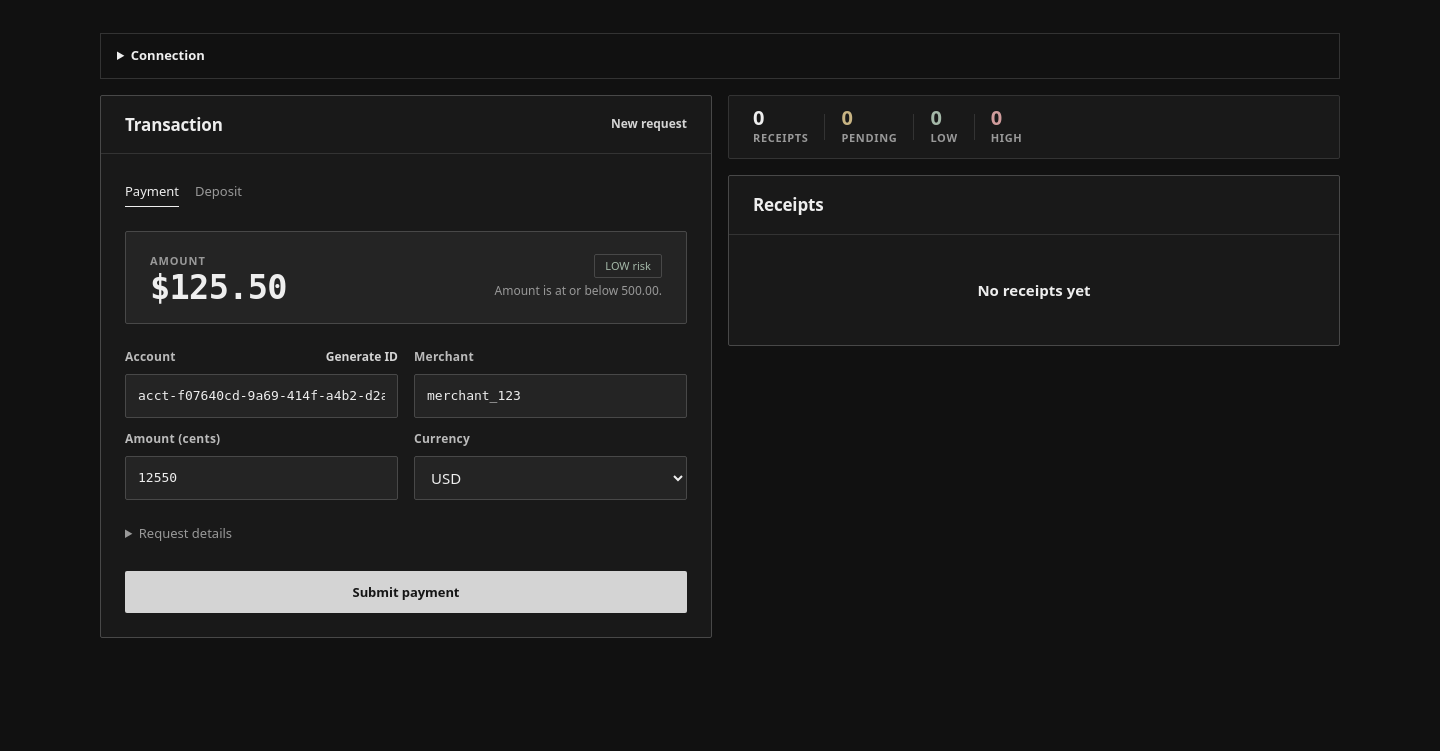
Test: funding supports arbitrary amounts with only its scoped bearer and no risk score
The width and height of the screenshot is (1440, 751).
Click the heading "Connection" at (168, 55), box [131, 46, 205, 64]
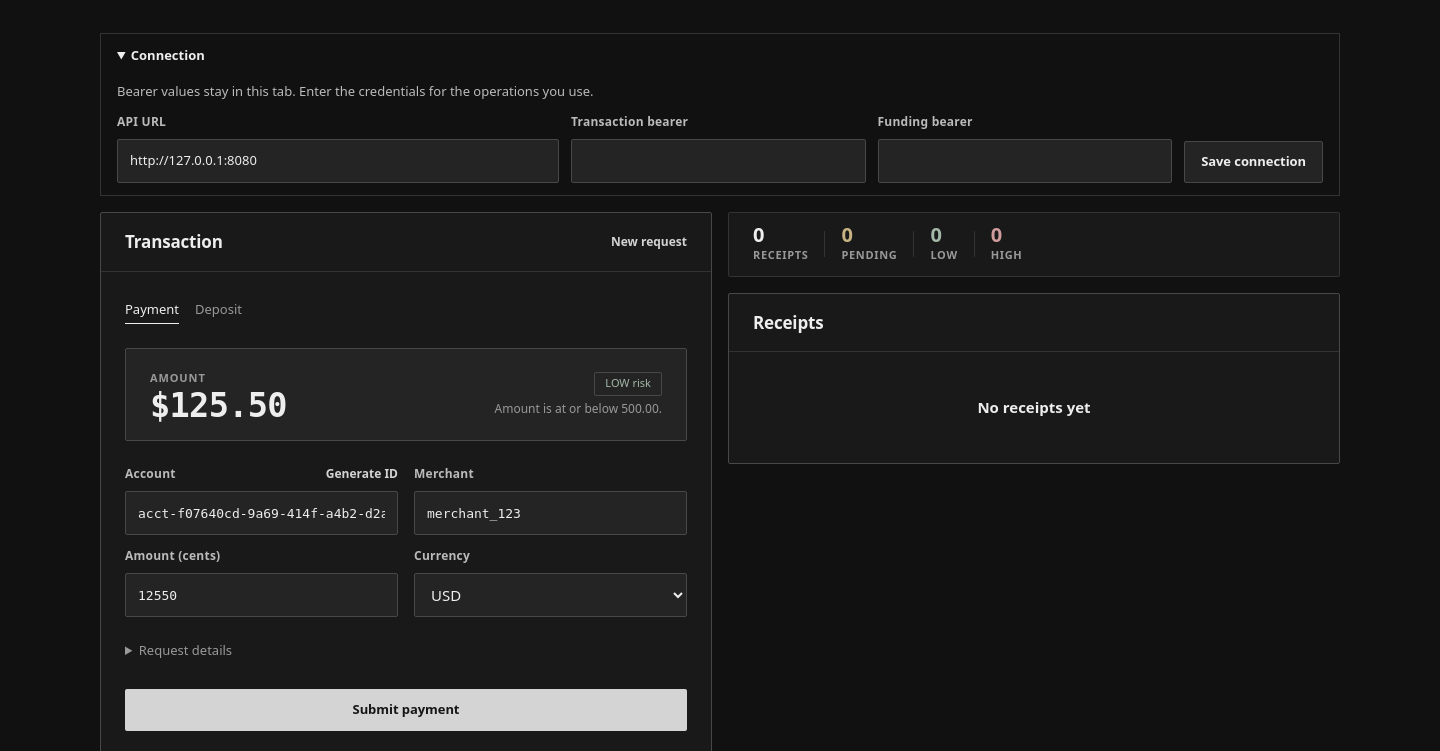
Replace the text in the field labelled "API URL" with "http://localhost:9000" at (338, 161), box [117, 139, 559, 183]
Type "funding-test" into the password field labelled "Funding bearer" at (1025, 161), box [878, 139, 1172, 183]
Click the button "Save connection" at (1254, 162), box [1184, 141, 1323, 183]
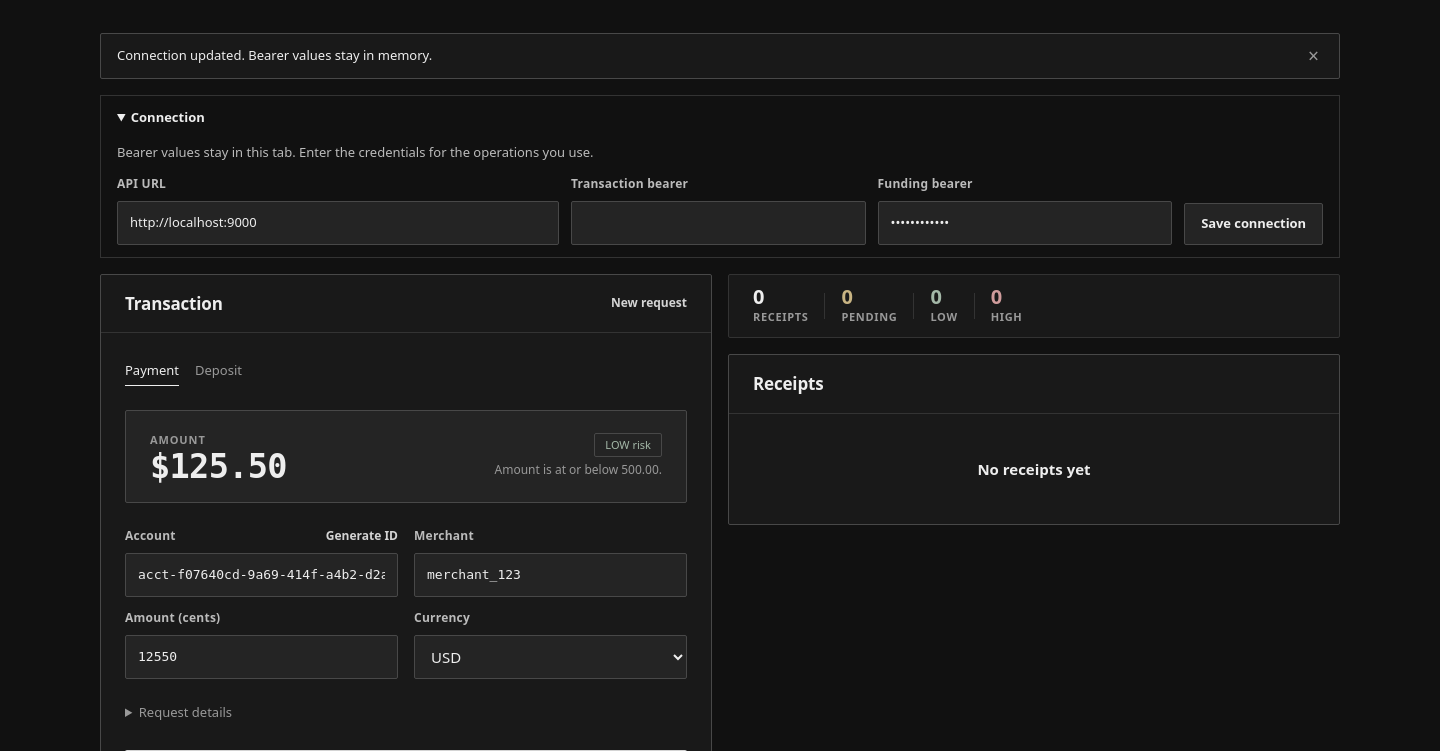
Click the button "Deposit" at (218, 371), box [195, 357, 242, 386]
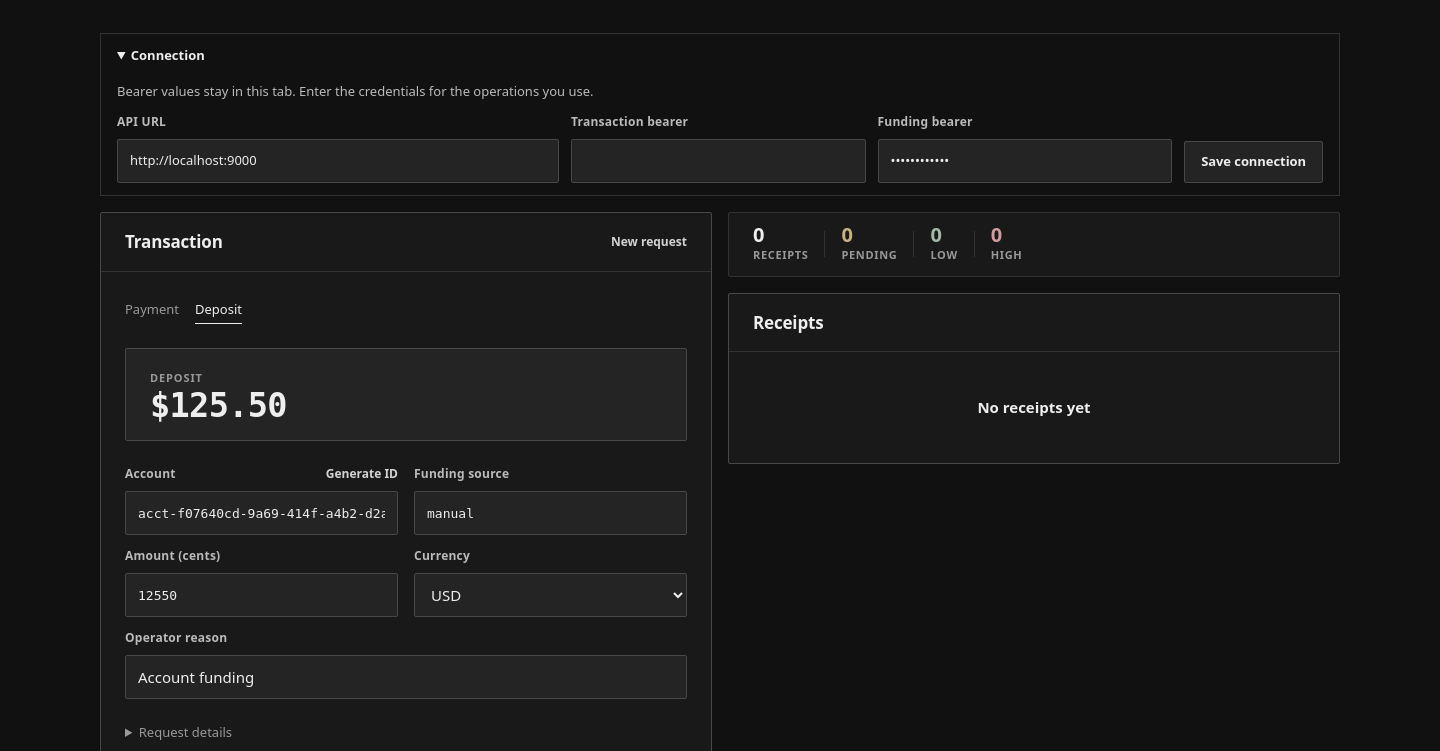
Replace the text in the number field labelled "Amount (cents)" with "23000" at (262, 596), box [125, 574, 398, 618]
(page scrolled)
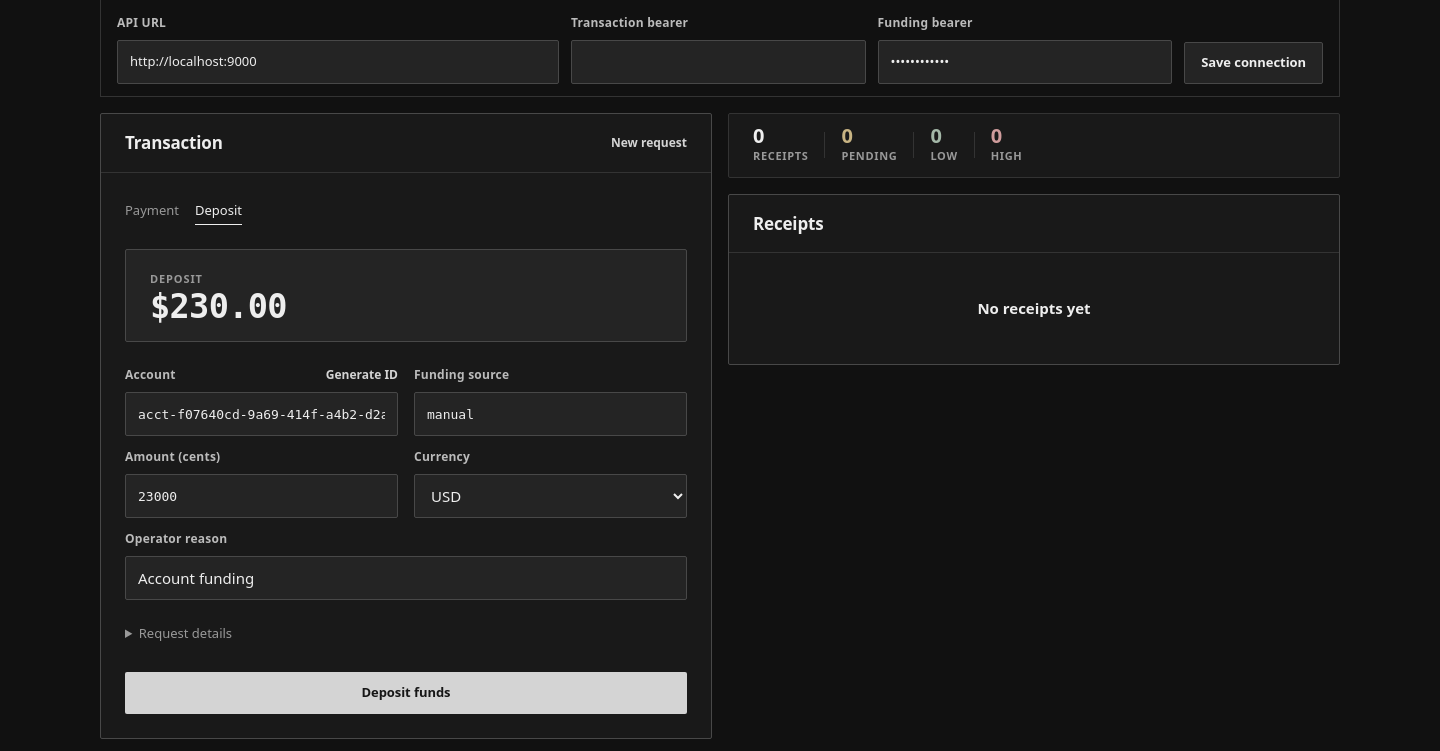
Click the button "Deposit funds" at (406, 693), box [125, 672, 687, 714]
(page scrolled)
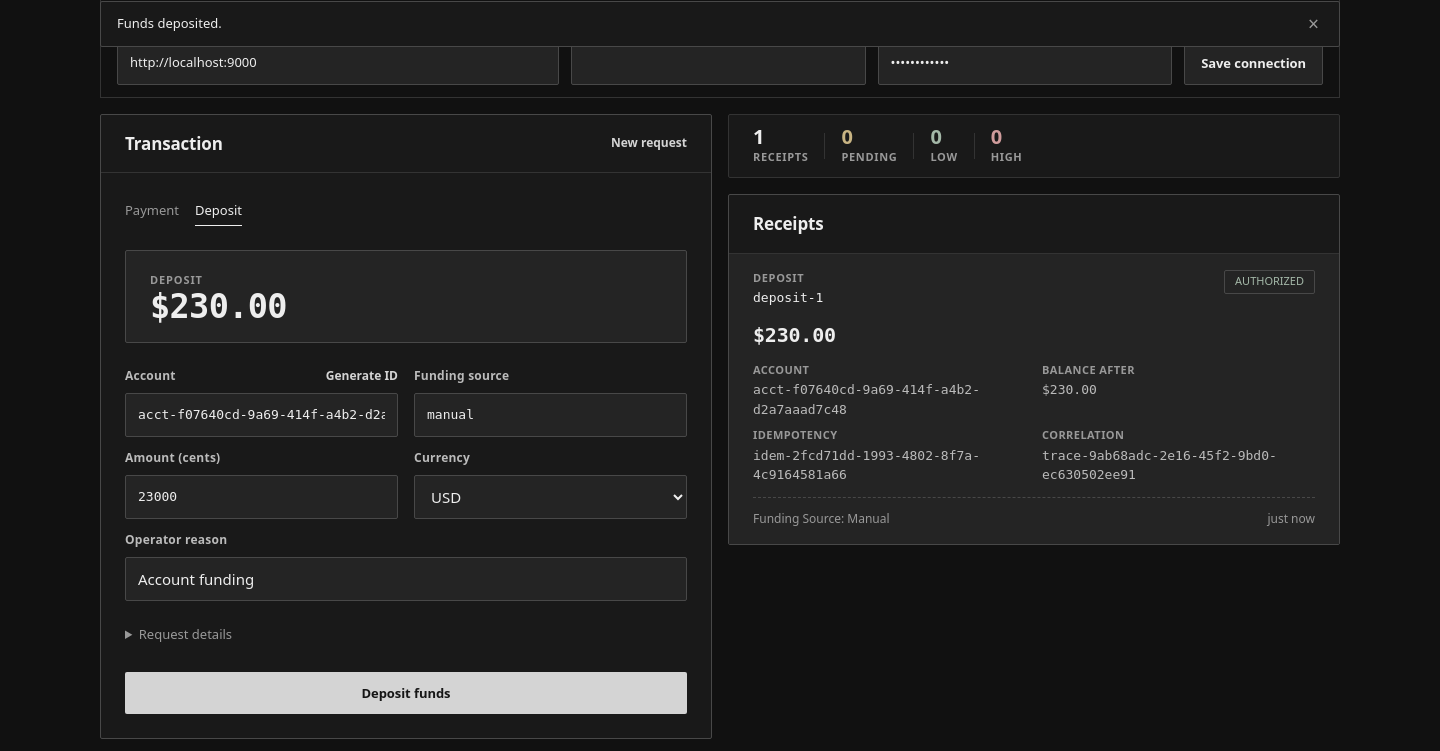
expect the text "LOW risk" is not shown: met
expect the text "deposit-1" is shown: met, box [753, 288, 824, 308]
expect the text "$230.00" below "Balance after" is shown: met, box [1042, 382, 1097, 397]
Click the button "Deposit funds" at (406, 694), box [125, 672, 687, 714]
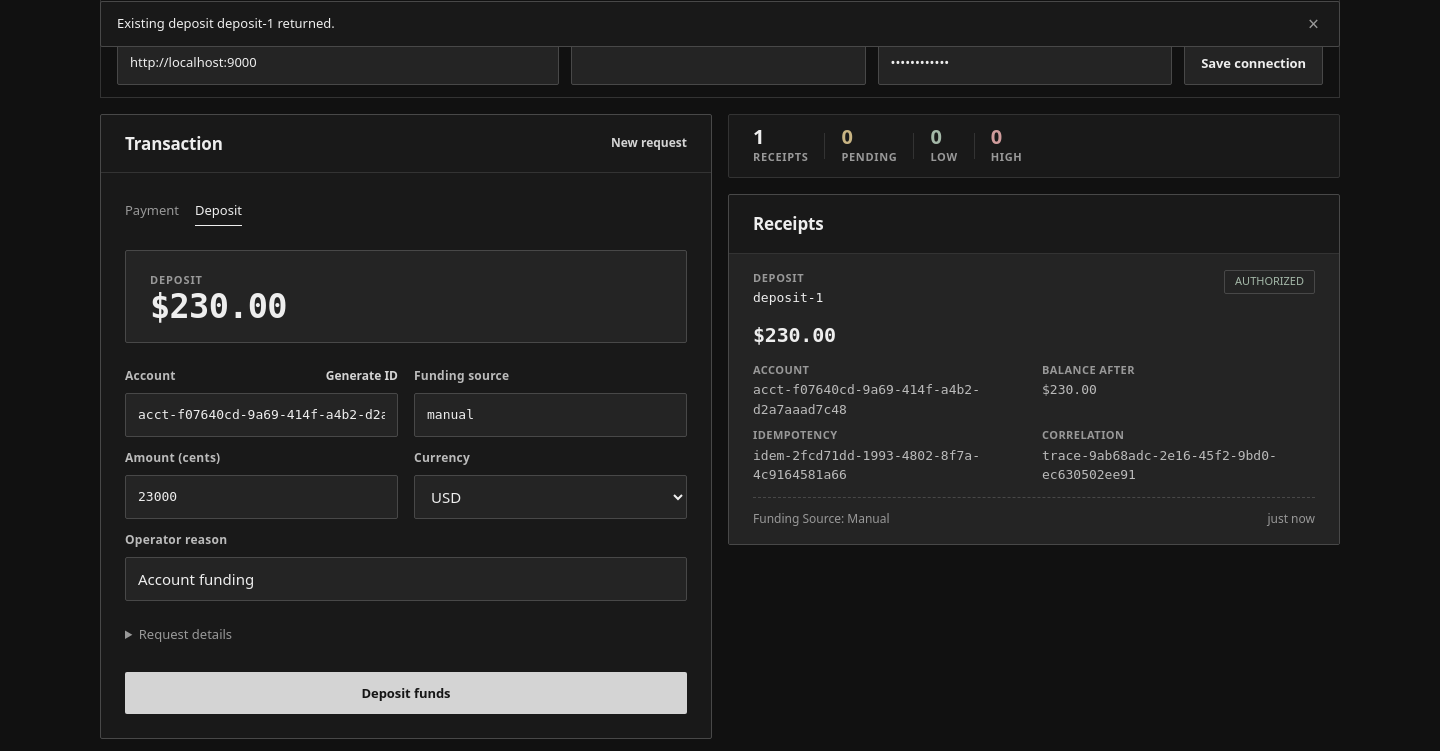
expect the text "Existing deposit deposit-1 returned." is shown: met, box [117, 14, 335, 32]
